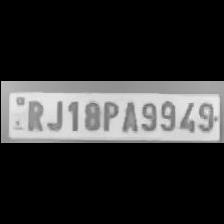1: (61, 97, 80, 132)
4: (176, 99, 196, 133)
8: (80, 98, 100, 132)
9: (136, 100, 158, 132), (156, 98, 176, 132), (195, 99, 215, 133)
A: (118, 99, 138, 134)
J: (44, 96, 64, 132)
P: (98, 98, 119, 132)
R: (20, 97, 44, 132)
